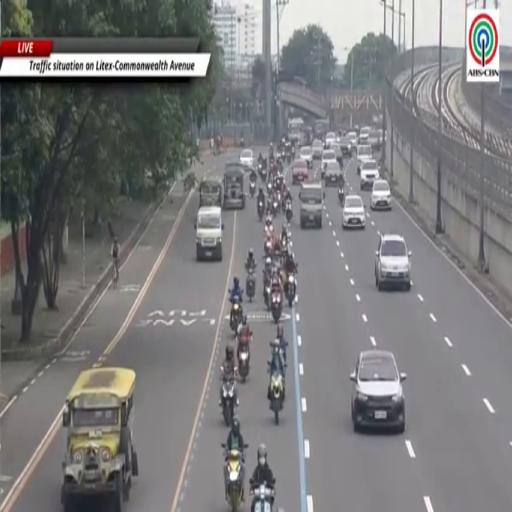car: (351, 349, 406, 433), (375, 234, 411, 291), (195, 206, 224, 261), (299, 183, 324, 228), (342, 195, 365, 229), (371, 180, 392, 210), (360, 159, 380, 190), (321, 150, 337, 179), (357, 144, 372, 174), (292, 159, 308, 184), (324, 163, 341, 186), (330, 142, 342, 167), (299, 147, 312, 168), (339, 137, 352, 156), (240, 149, 253, 168), (369, 131, 381, 151), (312, 139, 323, 159), (359, 127, 370, 145), (347, 132, 357, 150), (325, 133, 336, 148)
jeepney: (62, 367, 138, 511), (224, 163, 245, 209), (199, 179, 223, 206)
motorcycle: (221, 444, 244, 510), (221, 378, 236, 426), (250, 484, 275, 511), (270, 373, 283, 424), (239, 341, 250, 382), (230, 301, 242, 333), (285, 274, 296, 307), (271, 292, 282, 324), (246, 268, 256, 302), (264, 283, 270, 311), (285, 200, 292, 222), (264, 239, 272, 257), (271, 198, 278, 216), (258, 201, 264, 221), (338, 186, 344, 204), (276, 175, 283, 190), (250, 181, 255, 197), (261, 168, 267, 180), (267, 182, 272, 196), (277, 187, 281, 203), (286, 153, 291, 164), (240, 137, 244, 147)
